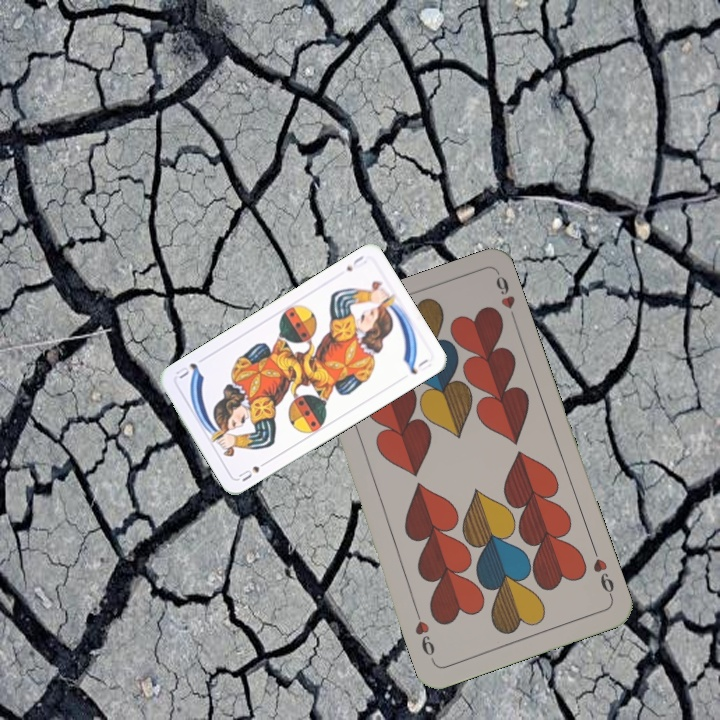H9: (589, 544, 617, 602)
SU: (234, 456, 272, 484), (342, 251, 369, 274)
